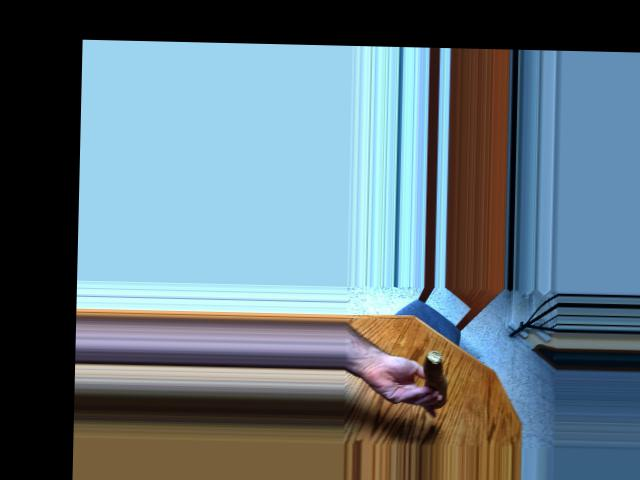sweet_potato: (420, 360, 447, 405)
